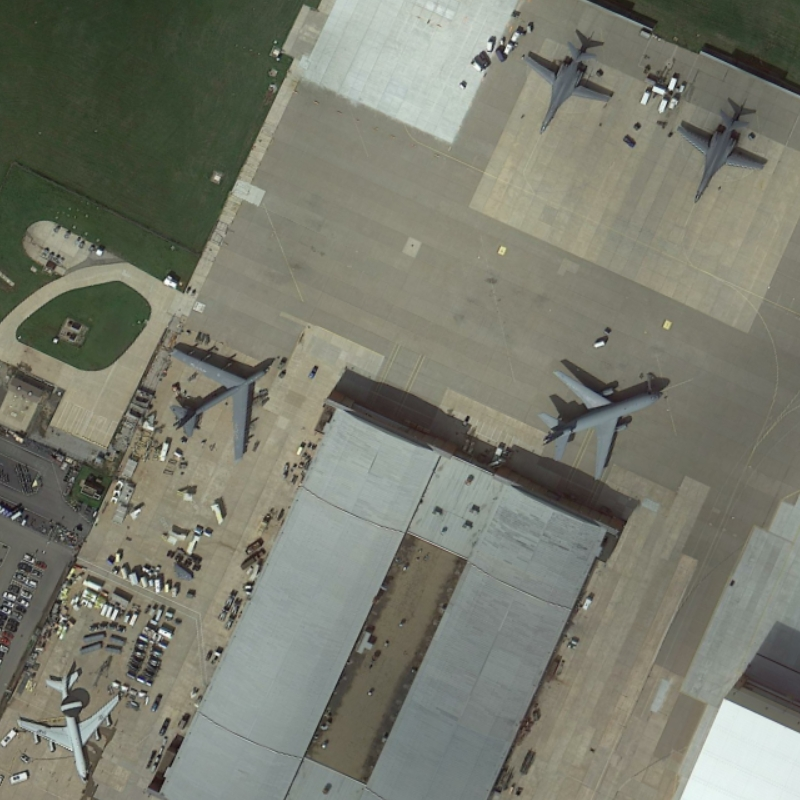A10: (669, 99, 771, 211), (521, 29, 624, 139)
A18: (537, 357, 667, 481)
A7: (14, 666, 125, 787)
A8: (158, 327, 288, 469)
